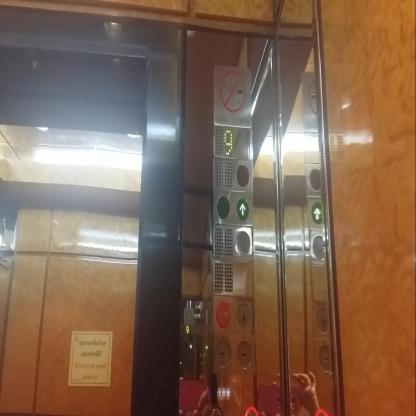empty: (236, 229, 250, 255), (235, 163, 250, 187), (216, 195, 230, 220)
keyhole: (215, 338, 231, 368), (236, 339, 252, 369), (235, 301, 252, 328)
text_stop: (216, 300, 230, 328)
up: (235, 196, 250, 221)
